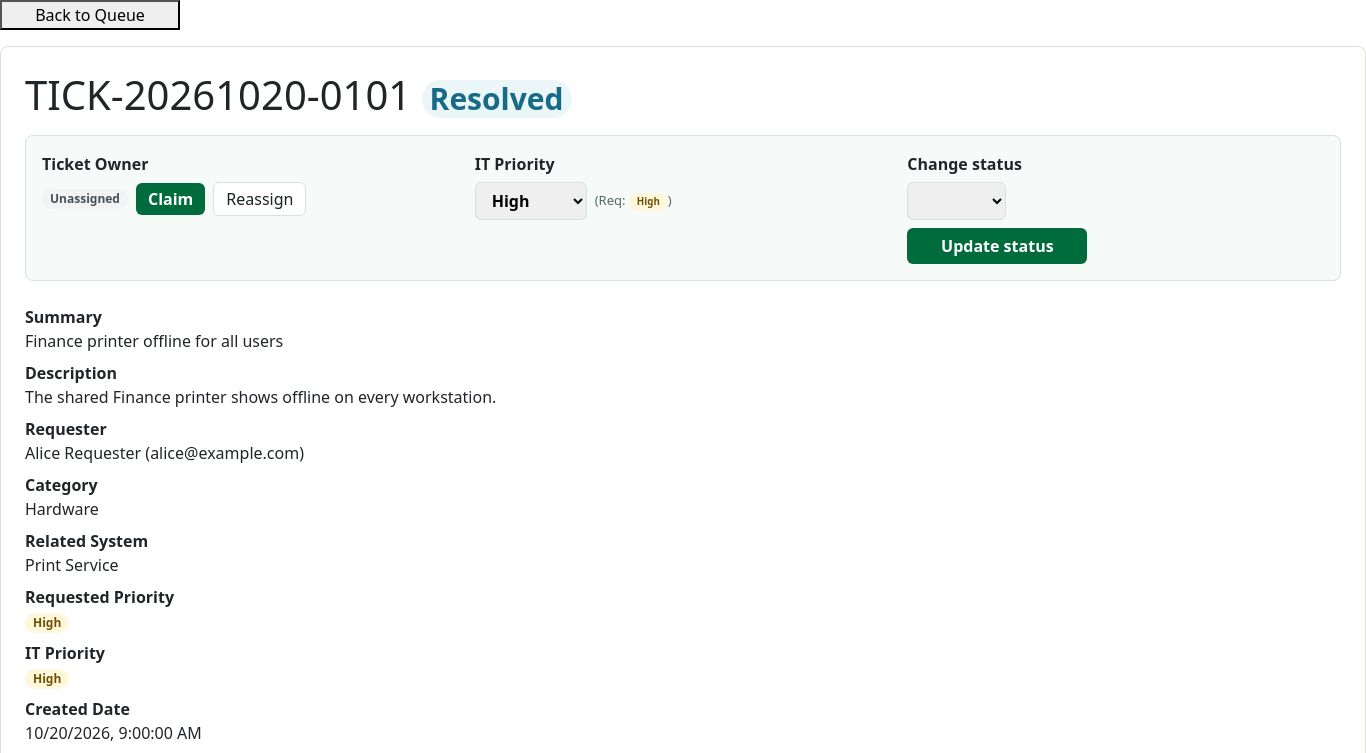
Ticket workflow UI (UI-11 … UI-17) › UI-12: Resolved → Closed asks for confirmation naming both statuses and sends nothing until confirmed
Expected: the heading "TICK-20261020-0101 Resolved" is shown, [25,67,572,122]
Select "Closed" in the dropdown labelled "Change status" at (957, 201), box [907,182,1006,220]
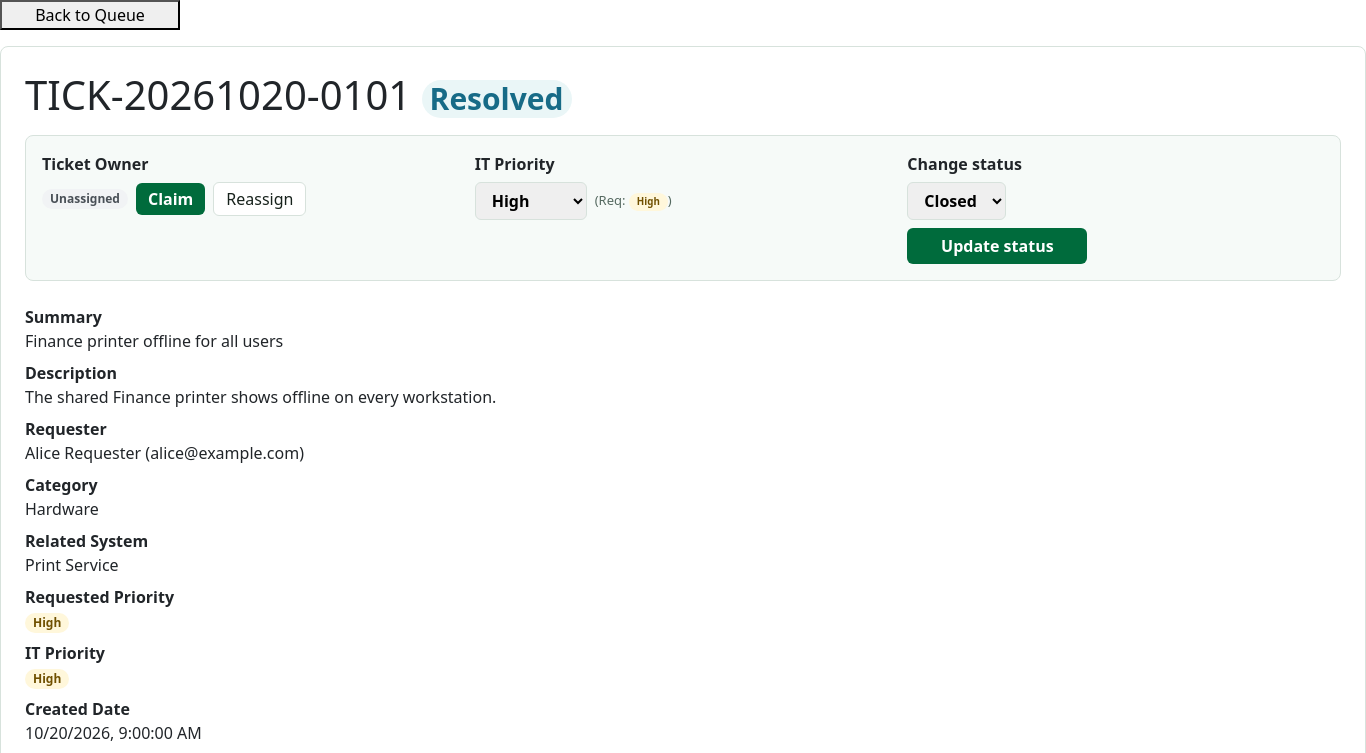
Click the button "Update status" at (997, 246), box [907,228,1087,264]
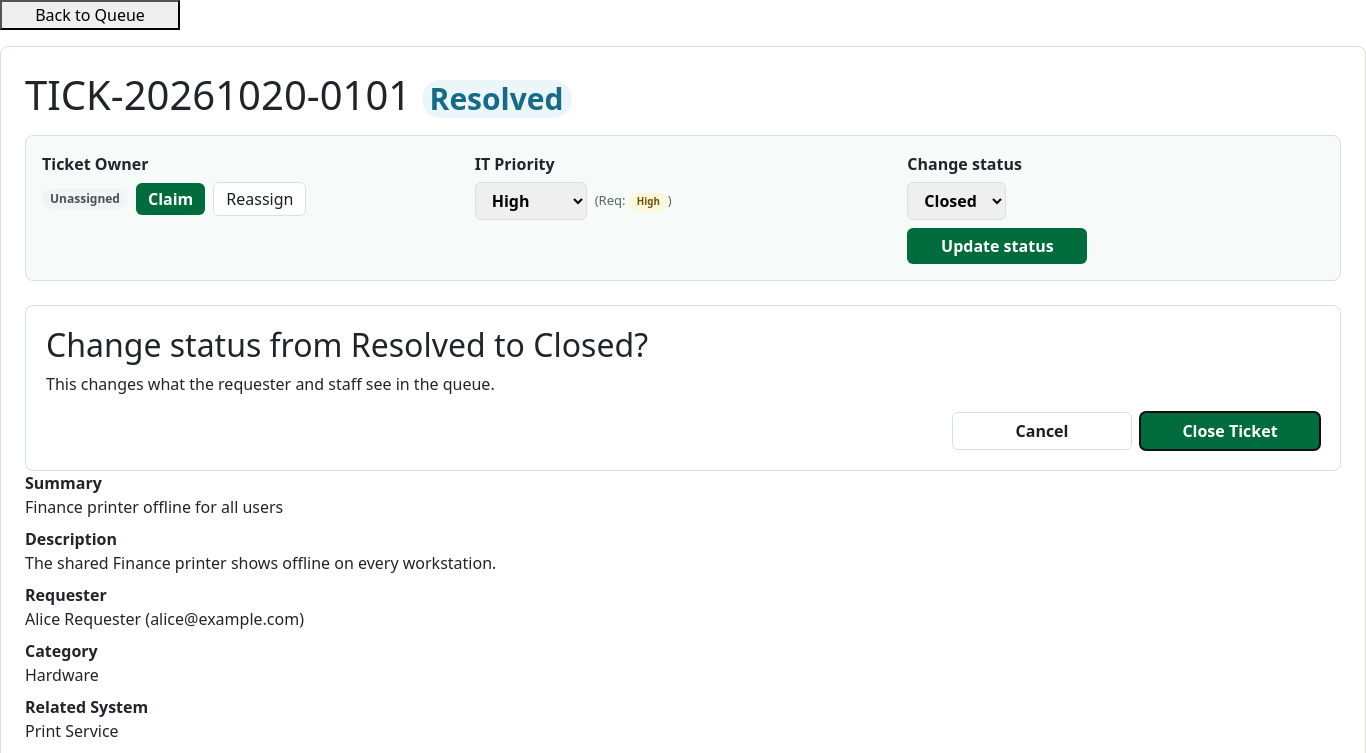
Expected: the heading "Change status from Resolved to Closed?" is shown, [46,323,648,366]
Click the button "Cancel" at (1042, 431), box [952,412,1132,450]
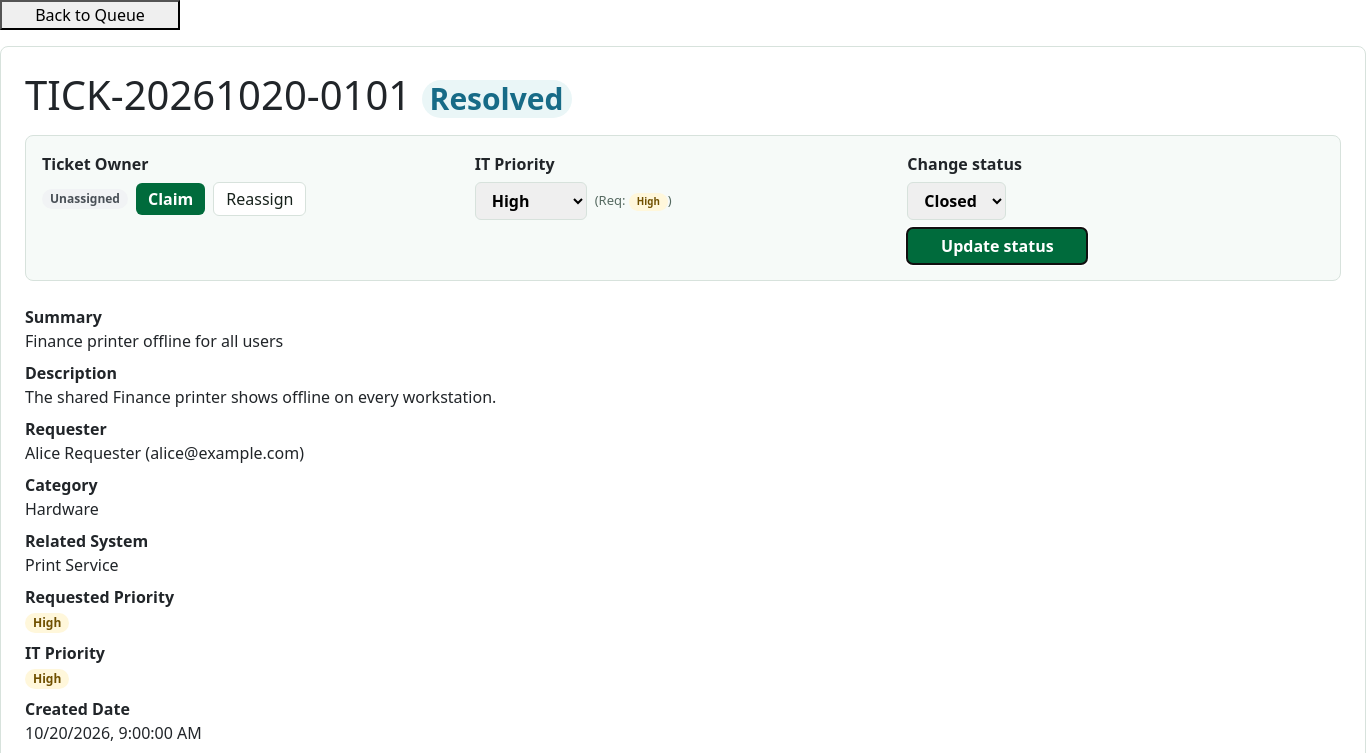
Expected: the dialog is gone
Click the button "Update status" at (997, 246), box [907,228,1087,264]
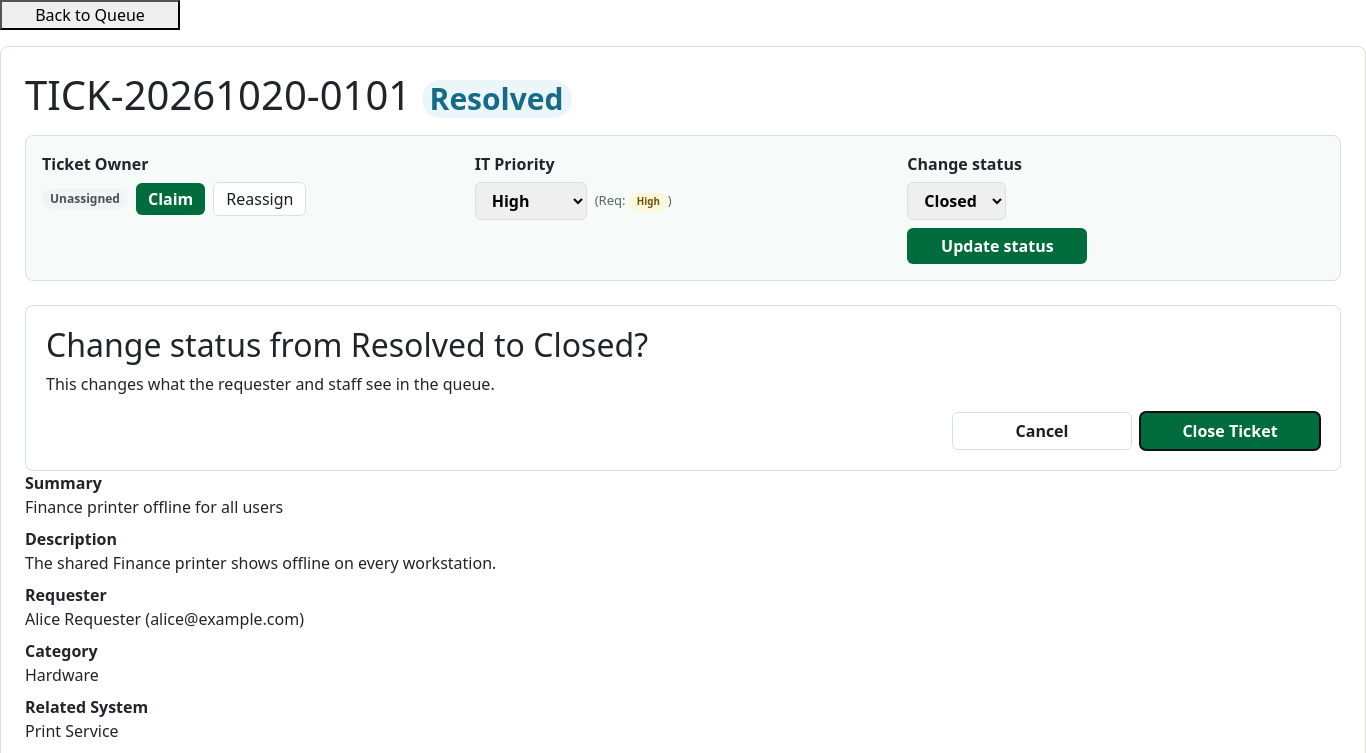
Click the button "Close Ticket" at (1230, 431), box [1140,412,1320,450]
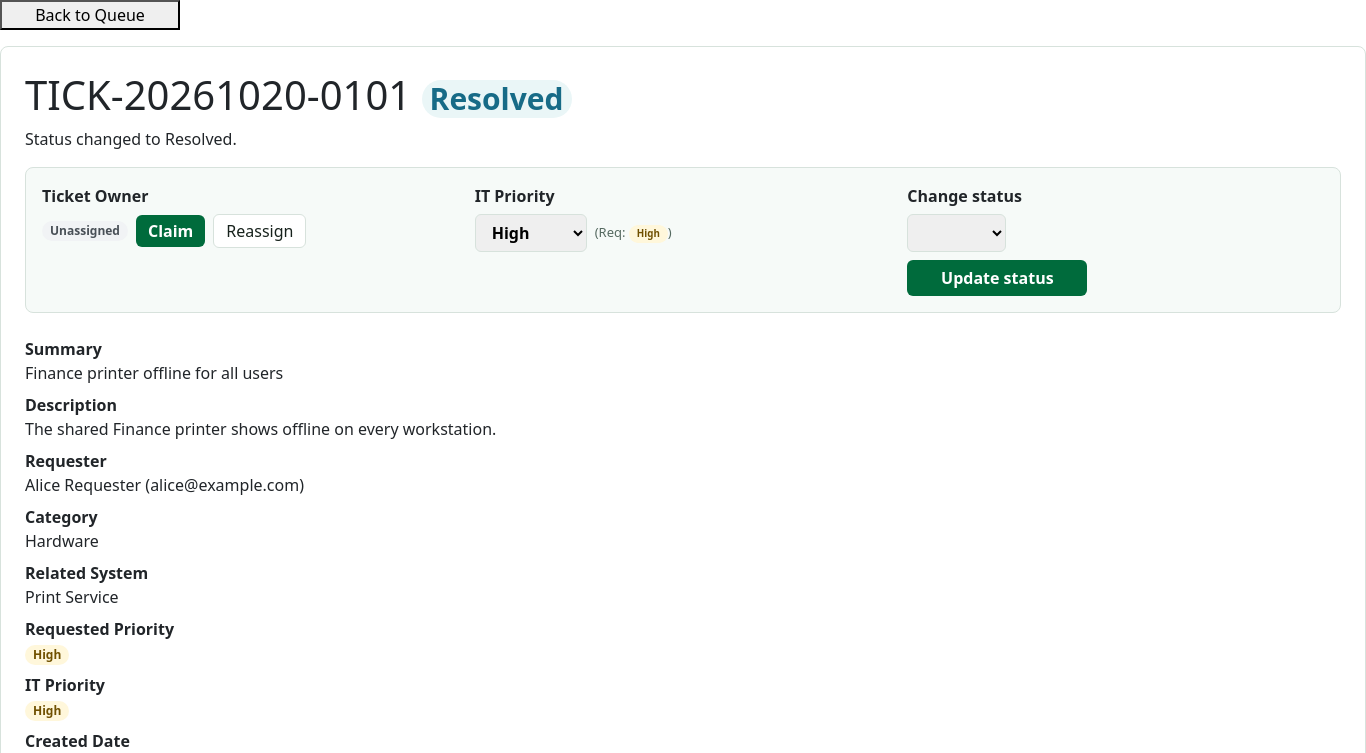
Expected: the dialog is gone
